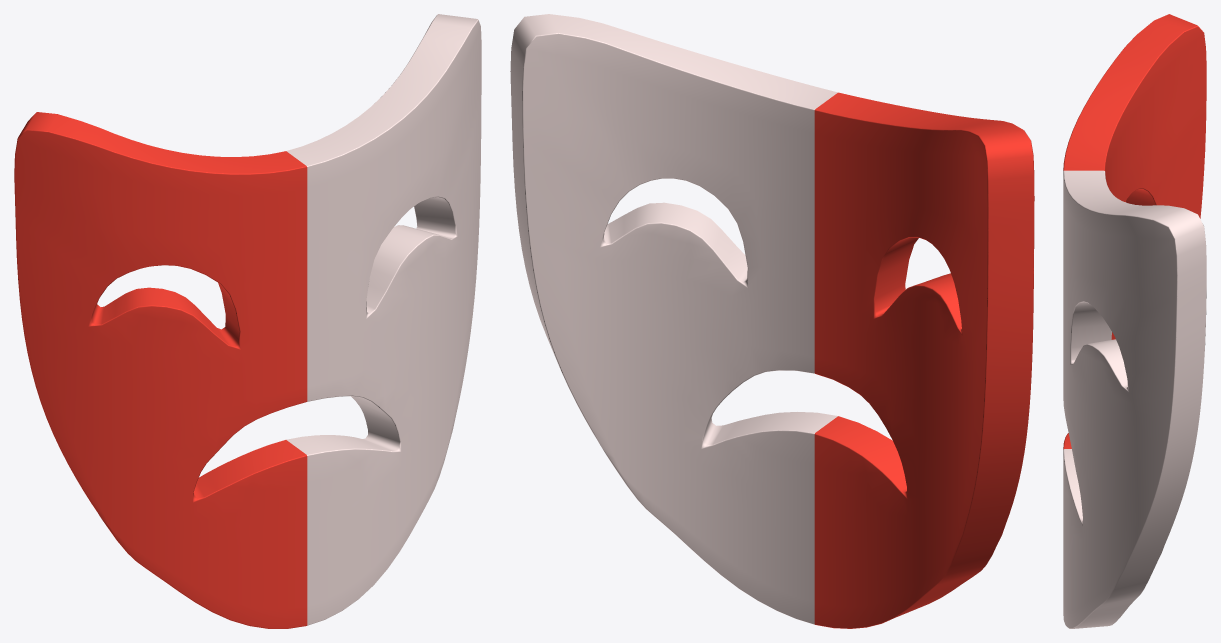
Rendered from Public_12_Mask_Theatre_2.glb.
3 renders of one model, left to right at view 1: azimuth 30°, elevation 25°; view 2: azimuth 150°, elevation 25°; view 3: azimuth 270°, elevation 25°, orthographic. The views are drawn at different scales.
Parts seen in each view (by area): view 1: Public_12_Mask_Theatre_2; view 2: Public_12_Mask_Theatre_2; view 3: Public_12_Mask_Theatre_2.
Part boxes in pixels (x1=…): Public_12_Mask_Theatre_2: x1=14, y1=14, x2=481, y2=628; Public_12_Mask_Theatre_2: x1=510, y1=14, x2=1034, y2=628; Public_12_Mask_Theatre_2: x1=1063, y1=14, x2=1206, y2=628.
Size of the model in its own units: 1.95 by 2.04 by 0.5379.
1 material, 1 textured.
